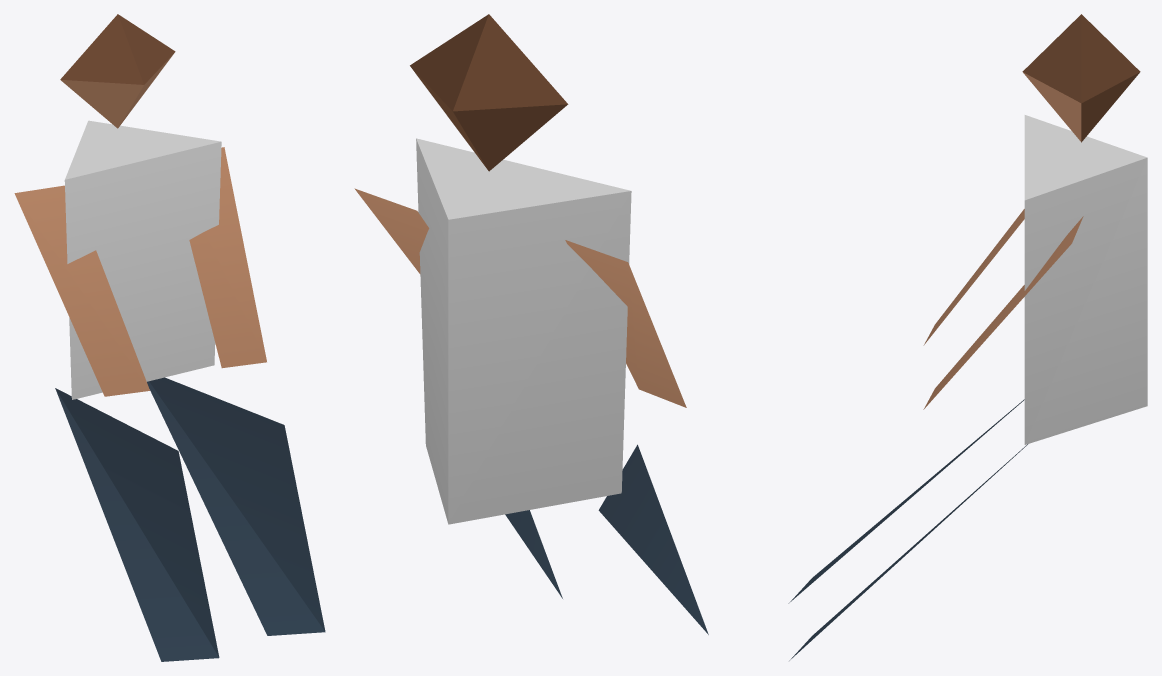
File: fan-03.glb
3 renders of one model, left to right at view 1: azimuth 30°, elevation 25°; view 2: azimuth 150°, elevation 25°; view 3: azimuth 270°, elevation 25°, orthographic. The views are drawn at different scales.
Visible parts, largest first — view 1: fan-03; view 2: fan-03; view 3: fan-03.
Boxes of the visible parts, left/top/right/bottom form: fan-03: left=14, top=14, right=325, bottom=661; fan-03: left=354, top=14, right=708, bottom=634; fan-03: left=788, top=14, right=1147, bottom=660.
Bounding box in the file's own units: 0.56 × 1.41 × 0.76.
